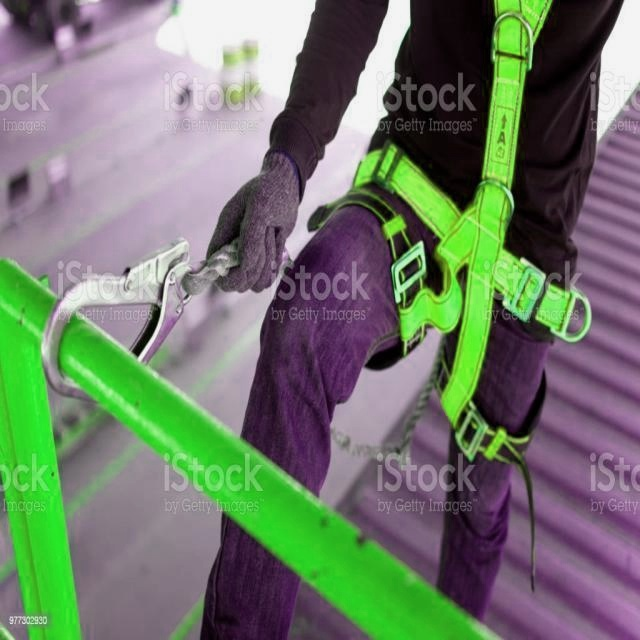safety belt: (338, 29, 600, 453)
